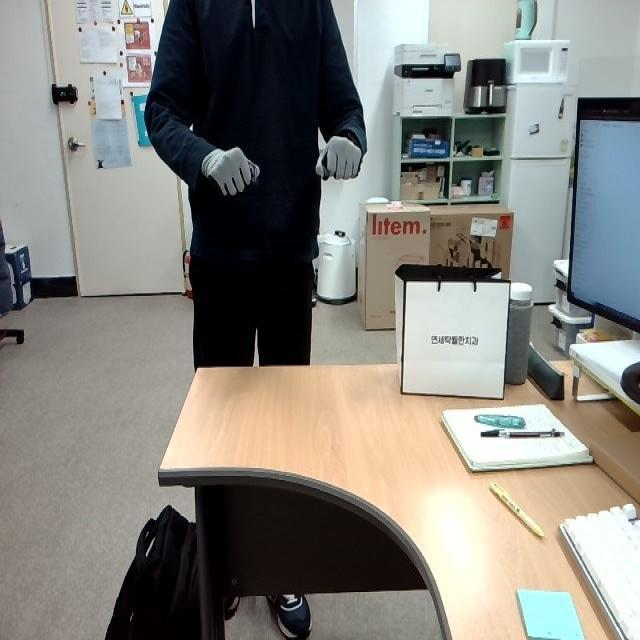gloved_hand: (200, 137, 261, 203), (314, 128, 367, 187)
